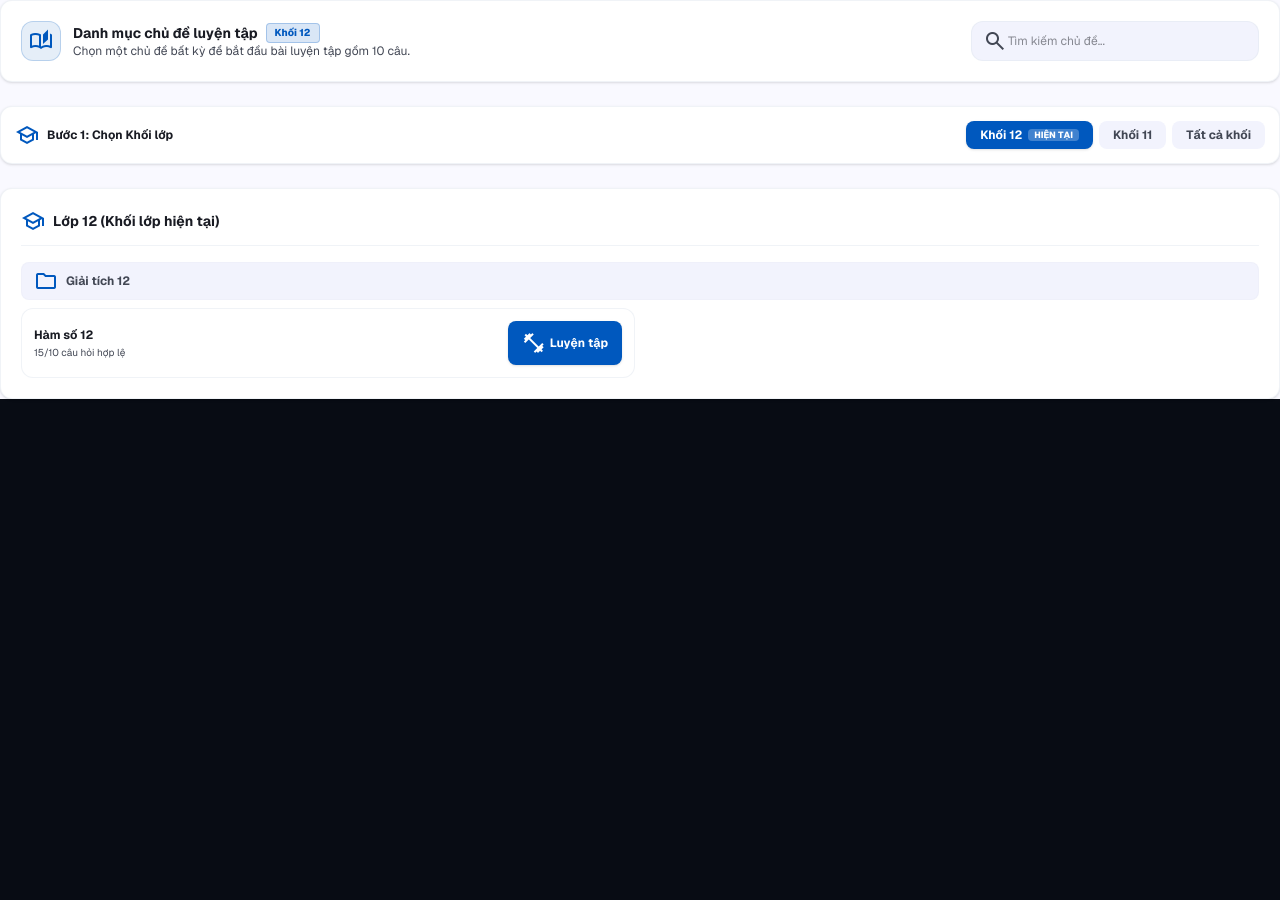
Test case: PracticeSetupPanel - Grade Filtering & Stale Option Sync › handles difficulty-unavailable error in recommended mode by awaiting refresh and showing actionable message
Click the button with aria-label "Luyện tập chủ đề Hàm số 12". click: (565, 343)
box: [508,321,622,365]
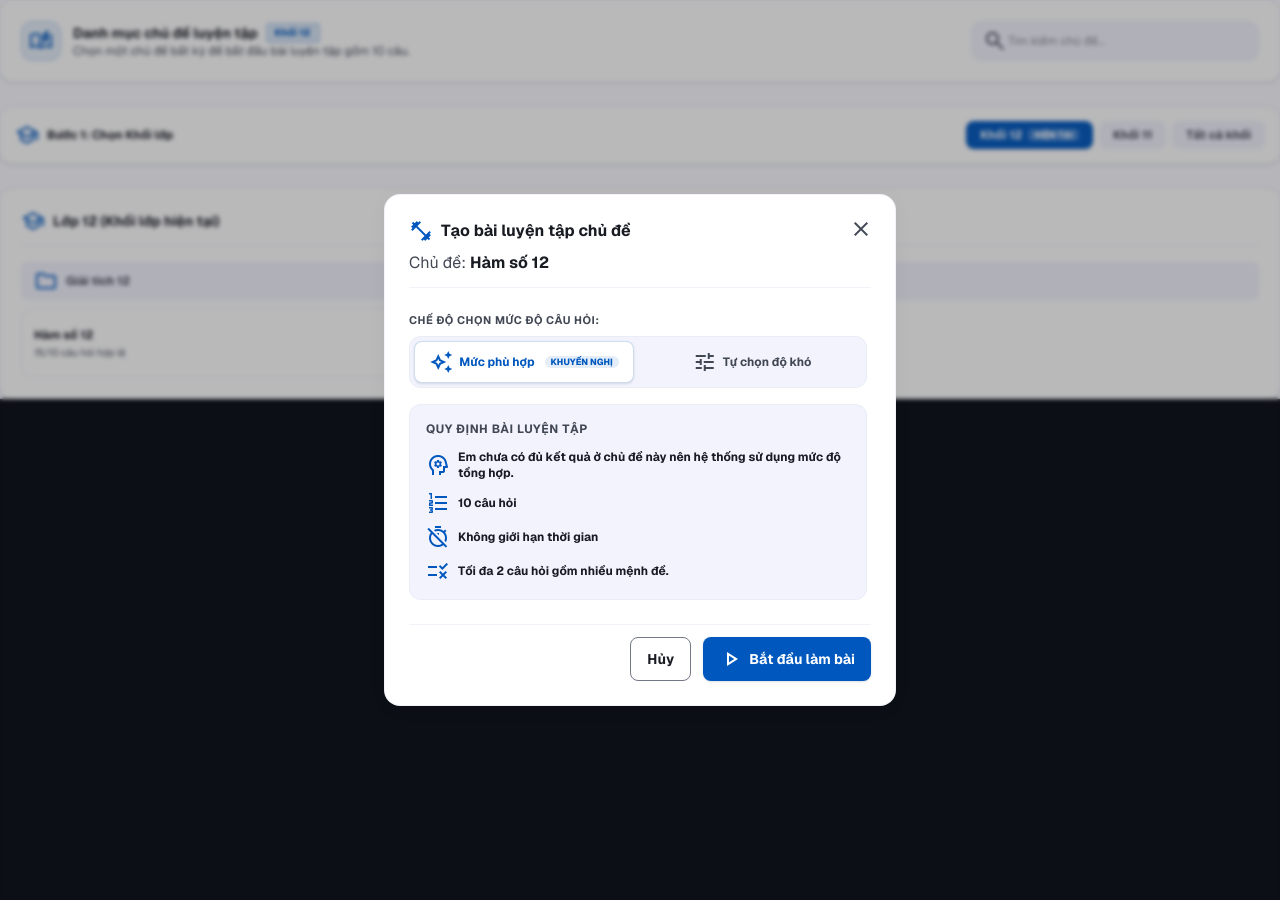
Check: the heading "Tạo bài luyện tập chủ đề" is shown, box [409,217,631,245]
Click the button "Bắt đầu làm bài". click: (787, 659)
box: [703,637,871,681]
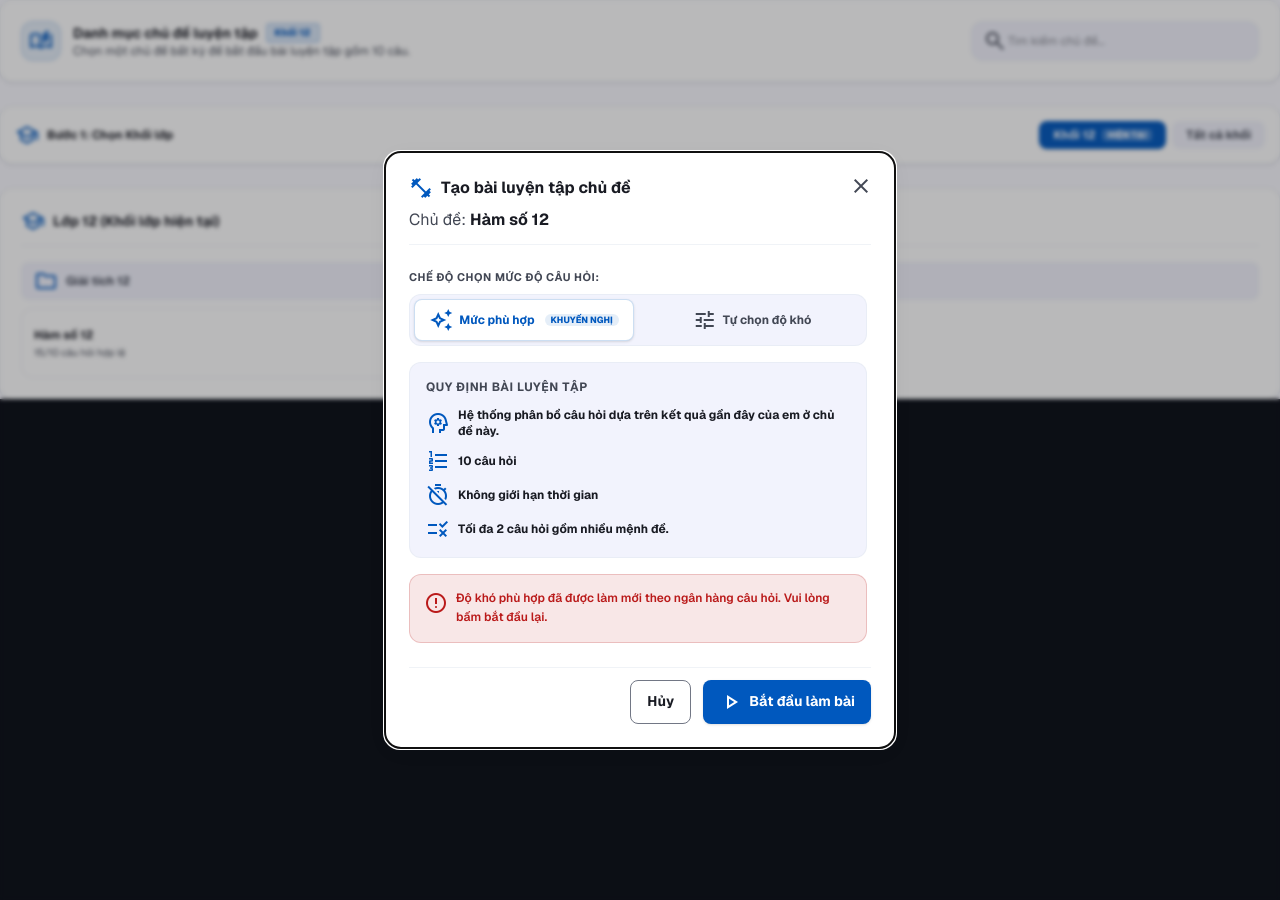
Check: the text "Độ khó phù hợp đã được làm mới theo ngân hàng câu hỏi. Vui lòng bấm bắt đầu lại." is shown, box [456,589,852,628]
